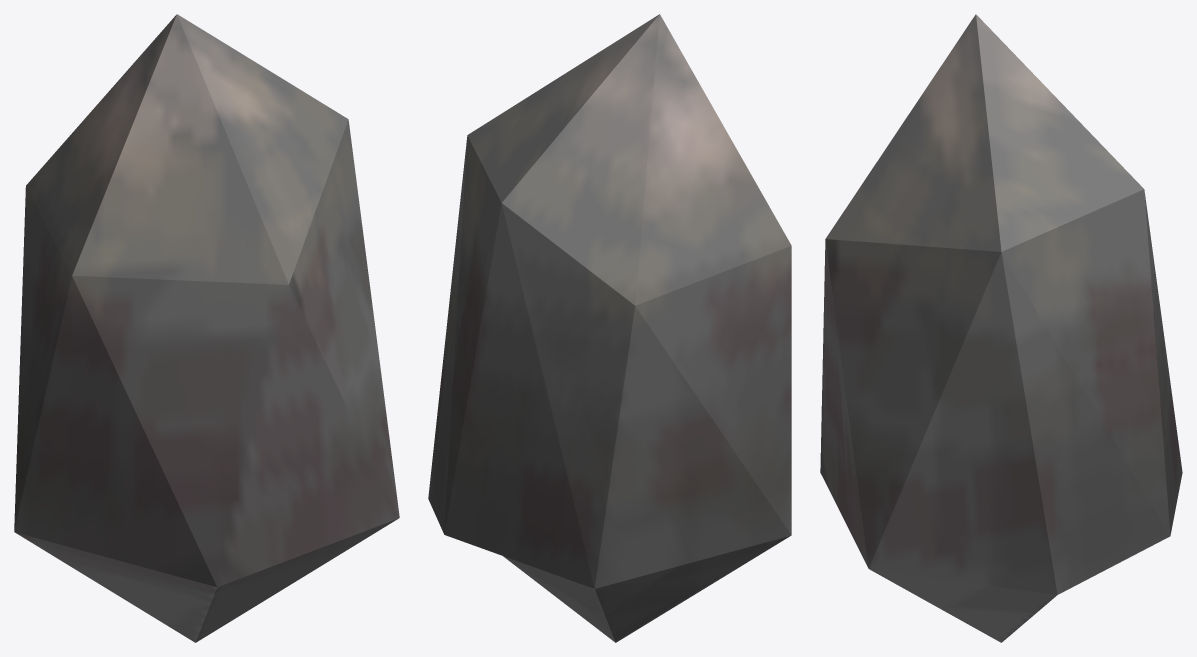
File: rock.fbx
3 views of the same model, side by side, from view 1: azimuth 30°, elevation 25°; view 2: azimuth 150°, elevation 25°; view 3: azimuth 270°, elevation 25° (orthographic). The views are drawn at different scales.
Parts seen in each view (by area): view 1: Icosphere; view 2: Icosphere; view 3: Icosphere.
Boxes of the visible parts, bbox=[...] form: Icosphere: bbox=[14, 14, 399, 642]; Icosphere: bbox=[428, 14, 791, 642]; Icosphere: bbox=[820, 14, 1182, 642].
Size of the model in its own units: 302 by 541 by 289.
1 material, 1 textured.
